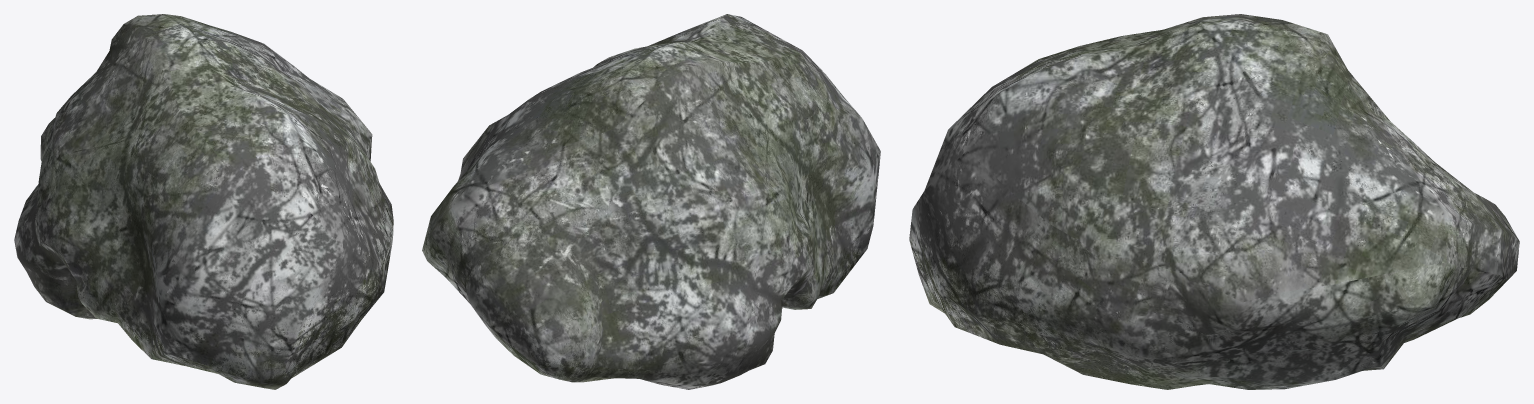
Rendered from Rock_2.glb.
3 views of the same model, side by side, from view 1: azimuth 30°, elevation 25°; view 2: azimuth 150°, elevation 25°; view 3: azimuth 270°, elevation 25° (orthographic). The views are drawn at different scales.
Visible parts, largest first — view 1: Rock_2__LOD3; view 2: Rock_2__LOD3; view 3: Rock_2__LOD3.
Boxes of the visible parts, x1,y1,x2,y2 form: Rock_2__LOD3: (14, 14, 393, 389); Rock_2__LOD3: (422, 14, 880, 389); Rock_2__LOD3: (909, 14, 1519, 389).
Bounding box in the file's own units: 0.8915 × 0.7532 × 1.25.
Materials: 1 (1 with a texture image).
